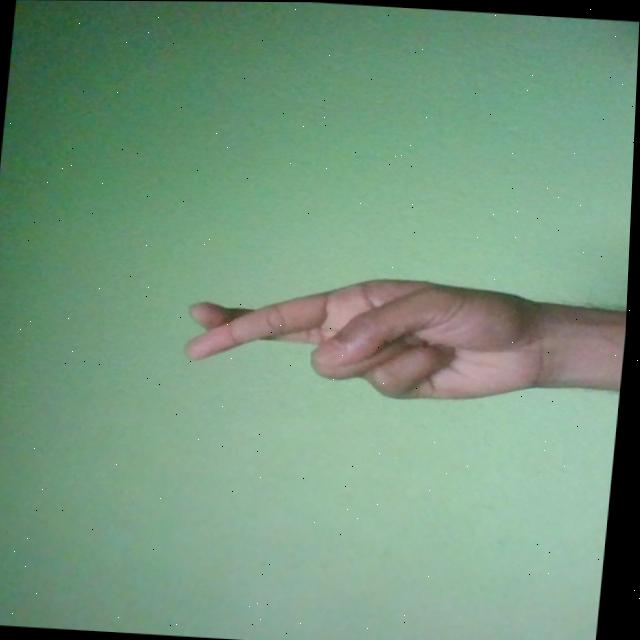Good Luck: (184, 267, 562, 406)
